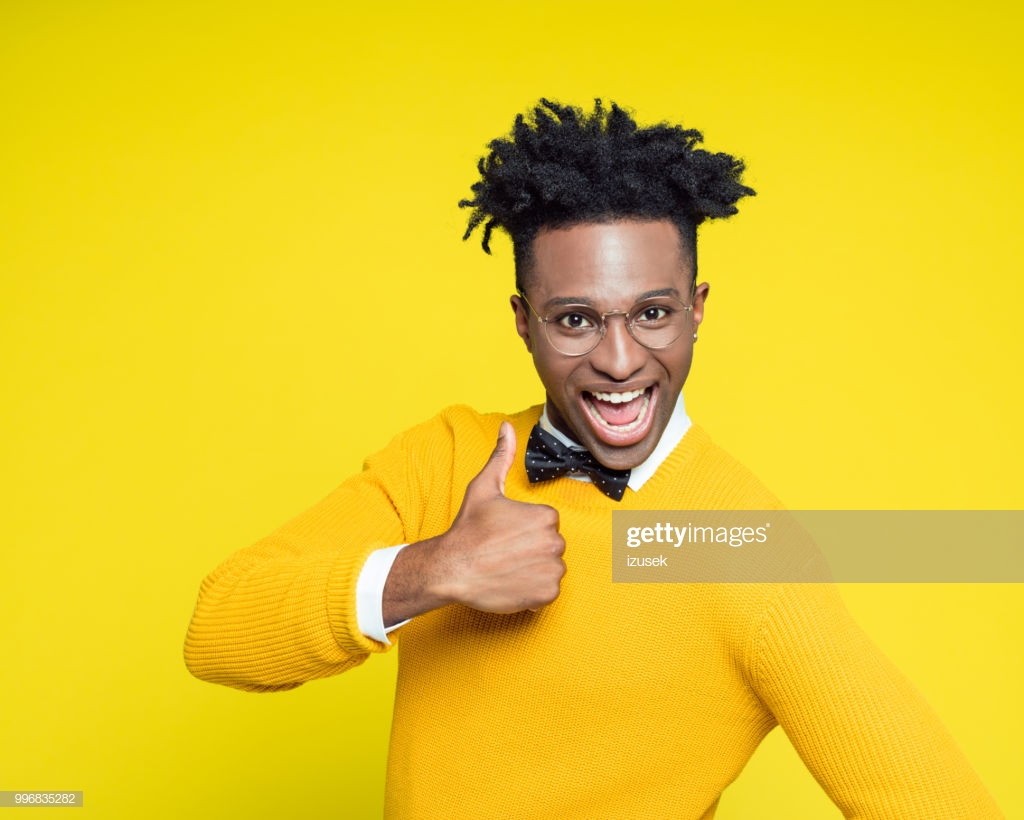thumbsup: (474, 421, 565, 613)
